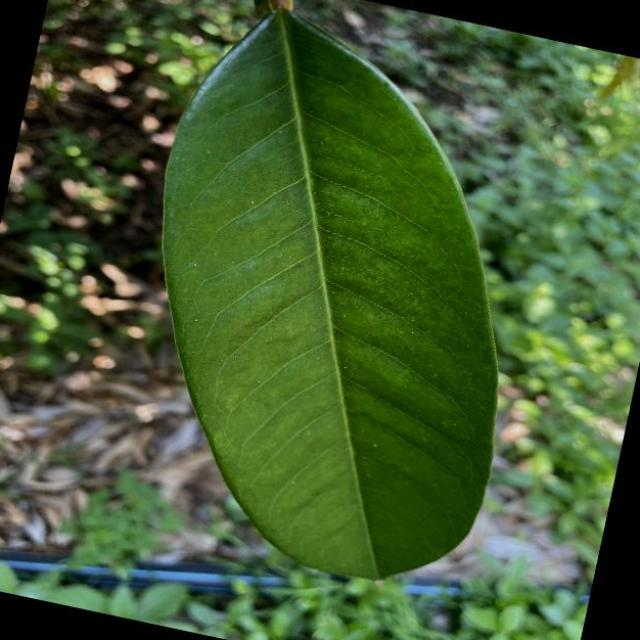No Disease: (76, 1, 592, 618)
